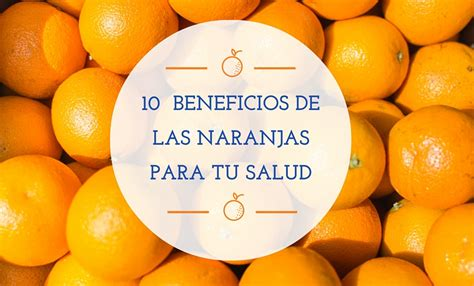orange: (62, 165, 174, 275), (1, 155, 83, 272), (384, 108, 474, 206), (318, 14, 411, 105), (48, 68, 128, 162)
